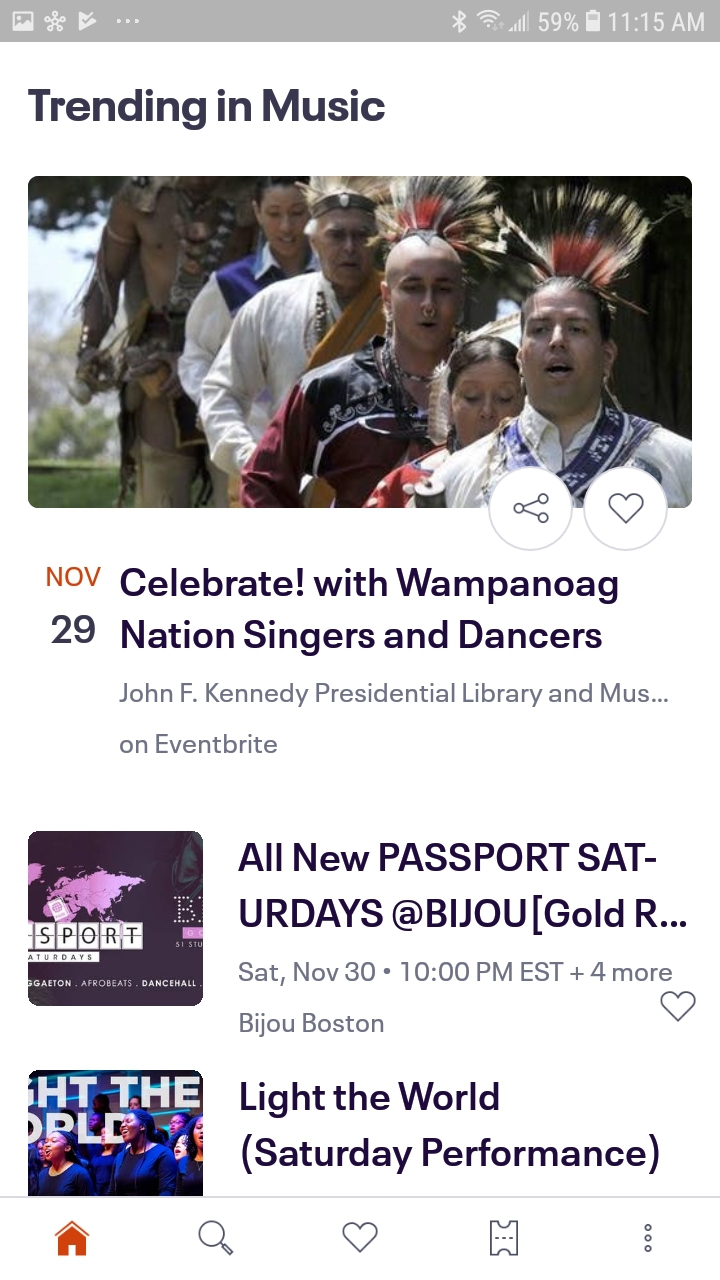Icon: (583, 467, 668, 552), (488, 467, 573, 551), (198, 1220, 235, 1256), (55, 1220, 91, 1256), (660, 991, 696, 1023), (342, 1222, 379, 1253), (490, 1219, 519, 1256), (643, 1224, 652, 1253)
Image: (28, 177, 692, 509), (28, 831, 204, 1006), (29, 1070, 204, 1197)
Text: (120, 568, 618, 657), (238, 843, 686, 936), (119, 683, 669, 755), (241, 1082, 659, 1175), (239, 962, 672, 1038), (28, 90, 386, 132), (51, 615, 96, 644), (47, 566, 102, 587)
UpperTaskBar: (1, 1, 720, 43)
